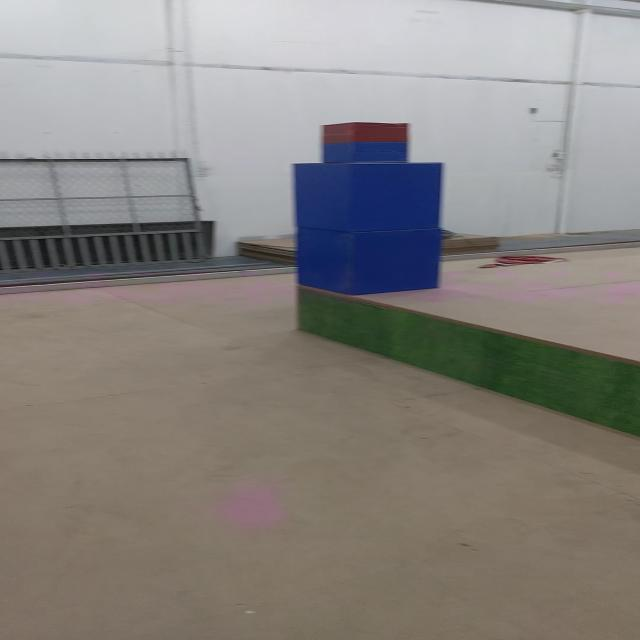earth_block: (281, 227, 453, 295), (284, 163, 456, 229)
sky_block: (320, 119, 411, 162)
